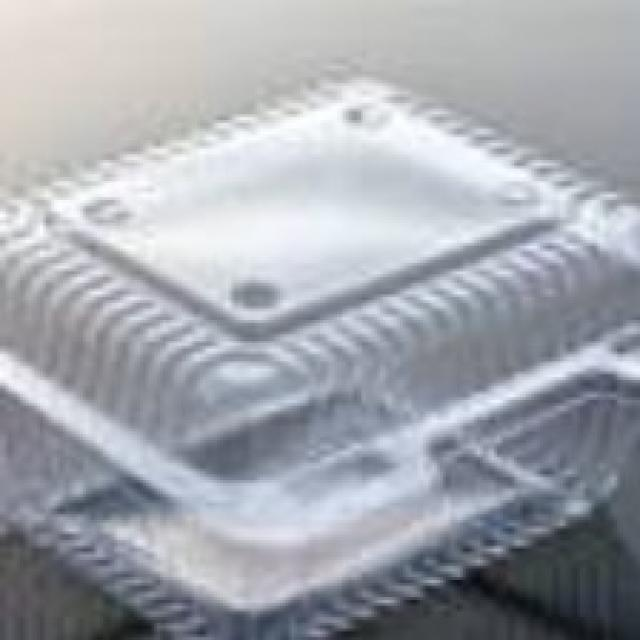plastic: (1, 175, 638, 640)
